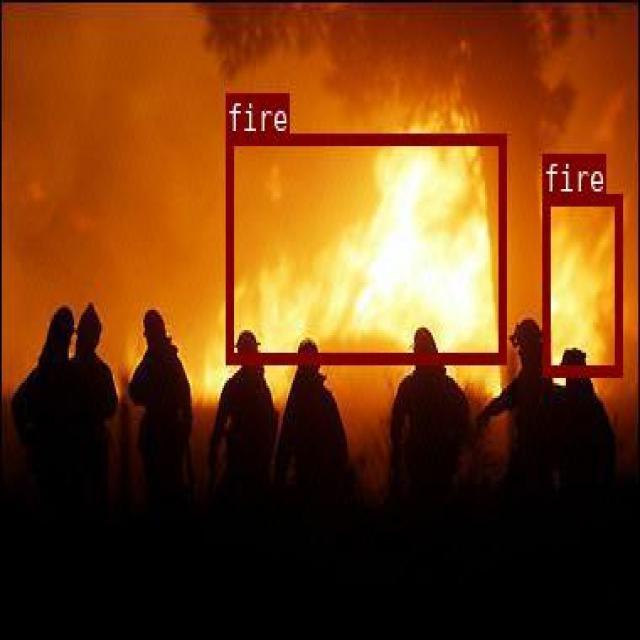fire: (225, 133, 504, 361), (542, 194, 620, 374)
